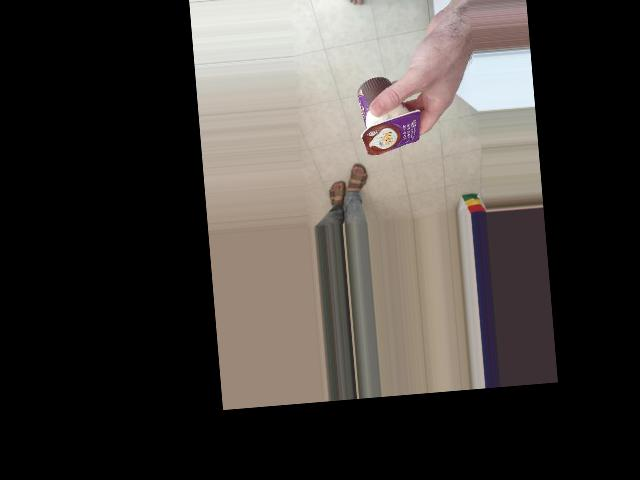milky: (323, 95, 422, 161)
